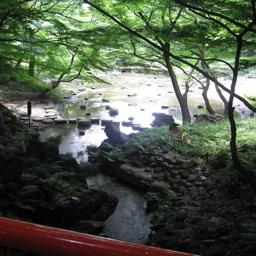Crow: (168, 123, 196, 148)
